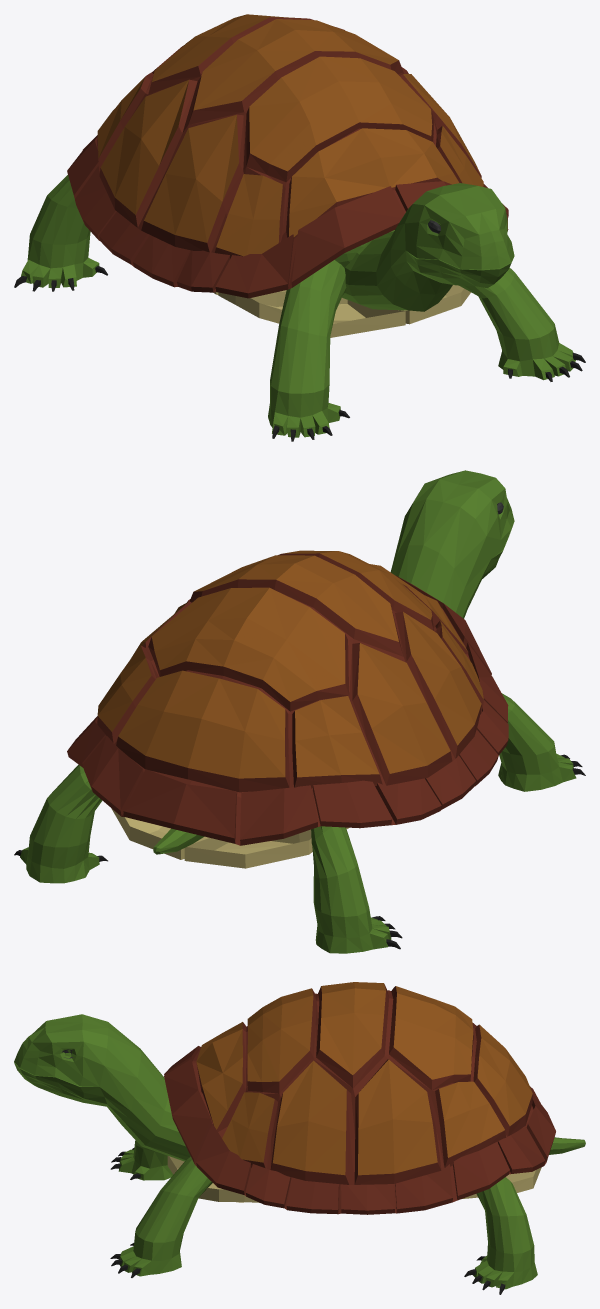
File: turtle.gltf
The picture shows the model from 3 angles, top to bottom: view 1: azimuth 30°, elevation 25°; view 2: azimuth 150°, elevation 25°; view 3: azimuth 270°, elevation 25°; orthographic projection. The views are drawn at different scales.
Visible parts, largest first — view 1: buffer-0-mesh-0_3, buffer-0-mesh-0_2, buffer-0-mesh-0_4, buffer-0-mesh-0_1, buffer-0-mesh-0_0; view 2: buffer-0-mesh-0_3, buffer-0-mesh-0_4, buffer-0-mesh-0_2, buffer-0-mesh-0_1; view 3: buffer-0-mesh-0_3, buffer-0-mesh-0_4, buffer-0-mesh-0_2, buffer-0-mesh-0_1, buffer-0-mesh-0_0.
Boxes of the visible parts, x1=… form: buffer-0-mesh-0_3: x1=97, y1=14, x2=483, y2=256; buffer-0-mesh-0_2: x1=21, y1=175, x2=576, y2=437; buffer-0-mesh-0_4: x1=67, y1=17, x2=508, y2=298; buffer-0-mesh-0_1: x1=213, y1=285, x2=470, y2=337; buffer-0-mesh-0_0: x1=14, y1=266, x2=585, y2=441; buffer-0-mesh-0_3: x1=97, y1=550, x2=483, y2=778; buffer-0-mesh-0_4: x1=67, y1=553, x2=508, y2=845; buffer-0-mesh-0_2: x1=20, y1=470, x2=576, y2=953; buffer-0-mesh-0_1: x1=111, y1=808, x2=349, y2=868; buffer-0-mesh-0_3: x1=196, y1=982, x2=532, y2=1175; buffer-0-mesh-0_4: x1=164, y1=984, x2=555, y2=1214; buffer-0-mesh-0_2: x1=14, y1=1014, x2=585, y2=1289; buffer-0-mesh-0_1: x1=167, y1=1156, x2=541, y2=1202; buffer-0-mesh-0_0: x1=110, y1=1148, x2=505, y2=1294.
Bounding box in the file's own units: 14.02 × 9.54 × 21.62.
